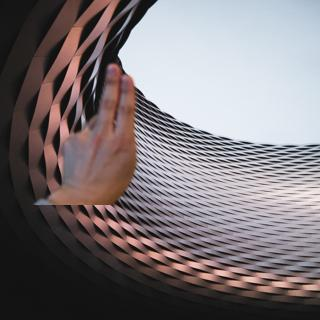DHAVE: (57, 60, 141, 196)
